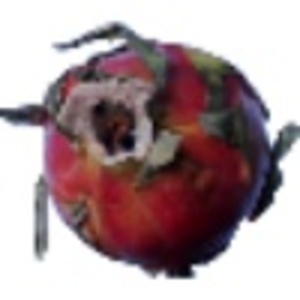pitaia: (1, 21, 300, 280)
